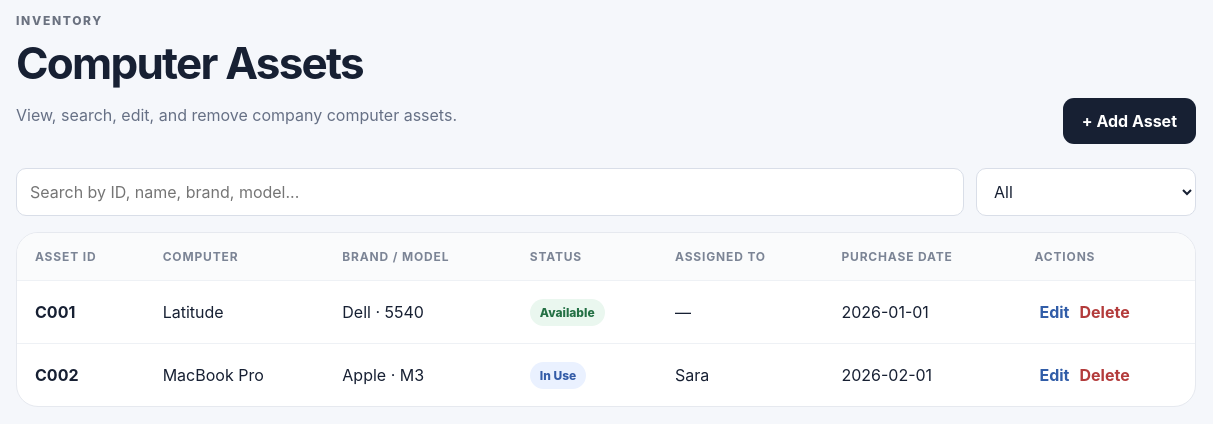
it: Assets list › deletes an asset after confirmation
Step 1. Click the button "Delete" in the row of "C001" → (1105, 312), box [1074,297,1135,327]
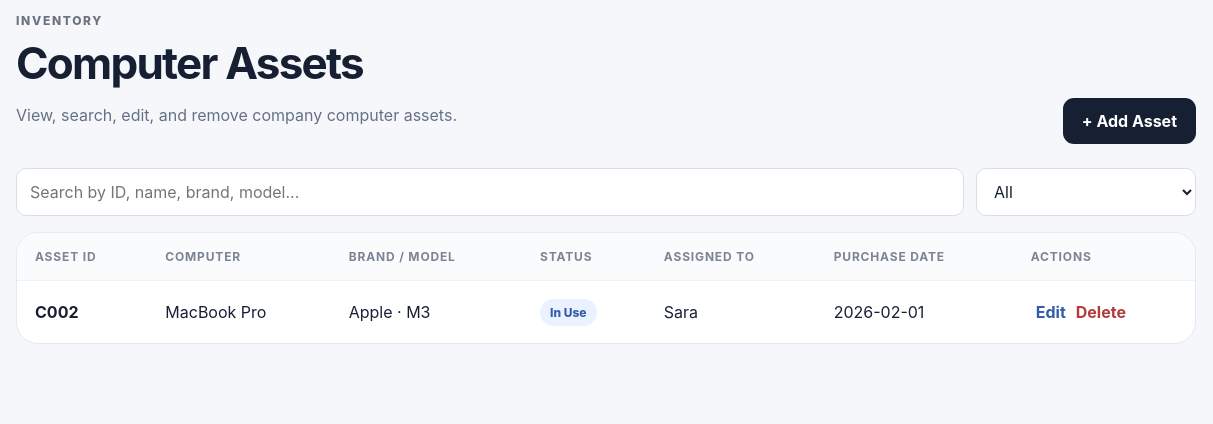
Expected: the text "C001" is gone
